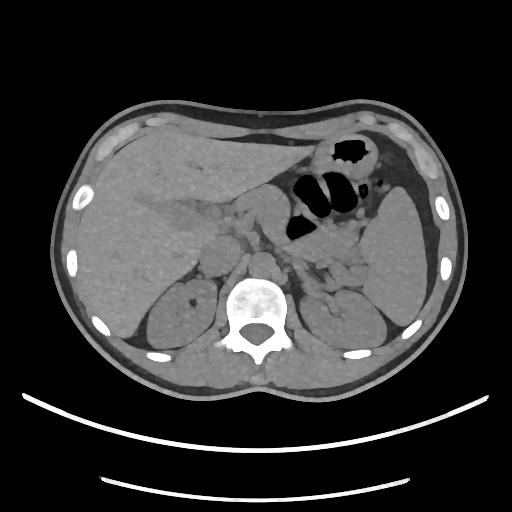Lesion: (184, 294, 202, 315)
